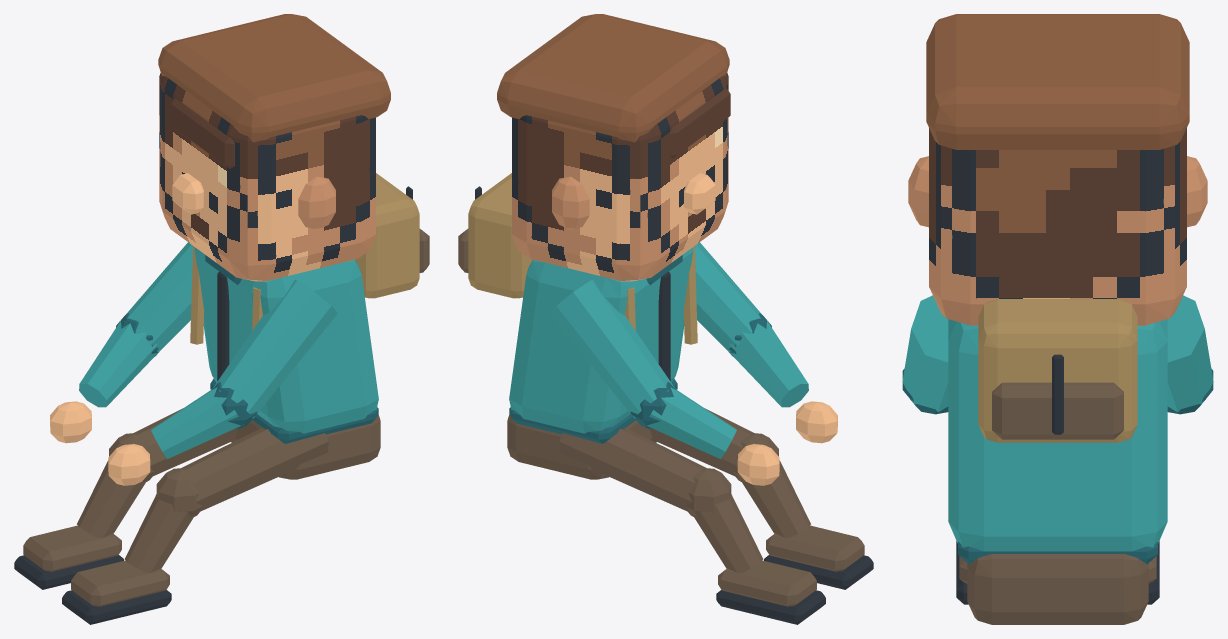
The model's file is rider.glb.
3 renders of one model, left to right at view 1: azimuth 30°, elevation 25°; view 2: azimuth 150°, elevation 25°; view 3: azimuth 270°, elevation 25°, orthographic. The views are drawn at different scales.
Visible parts, largest first — view 1: Explorer_static_seated; view 2: Explorer_static_seated; view 3: Explorer_static_seated.
Part boxes in pixels (box(x1,y1,x2,y2)): Explorer_static_seated: box(14, 14, 429, 624); Explorer_static_seated: box(458, 14, 873, 624); Explorer_static_seated: box(902, 14, 1213, 624).
Bounding box in the file's own units: 17.48 × 22.6 × 9.86.
1 material, 1 textured.
